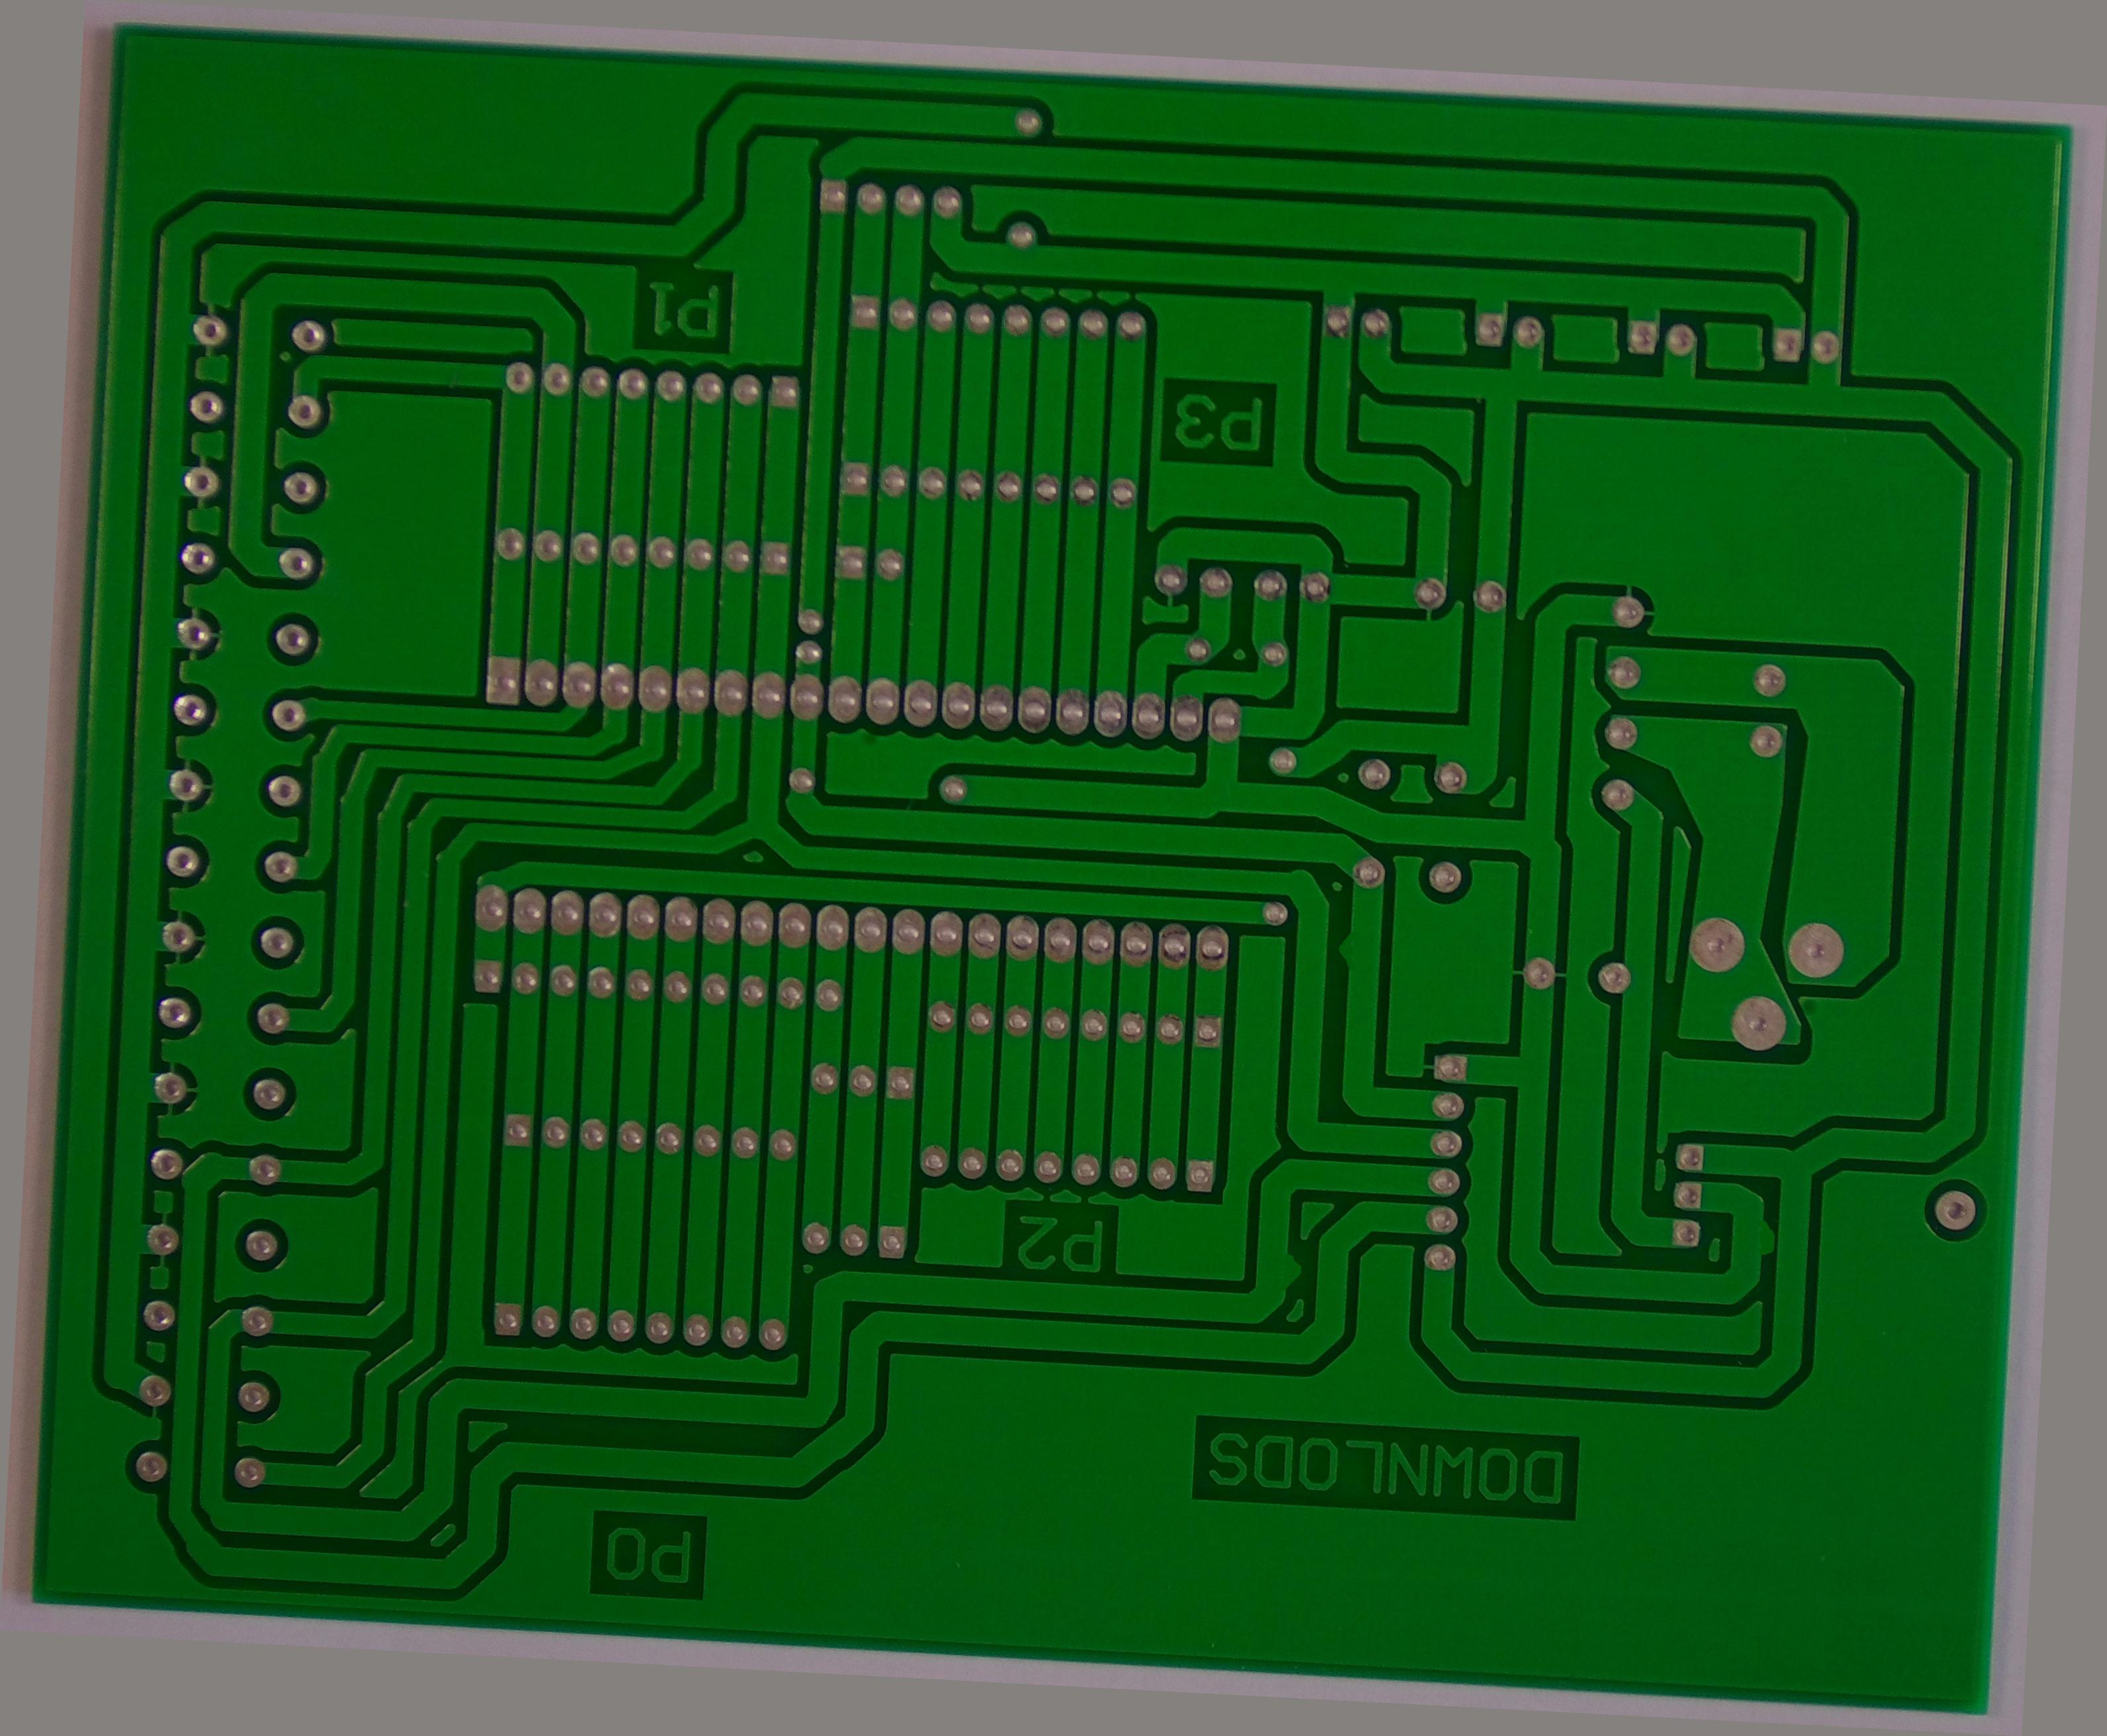spur: (1330, 919, 1374, 975), (1745, 1209, 1781, 1270), (1269, 1244, 1307, 1300)
